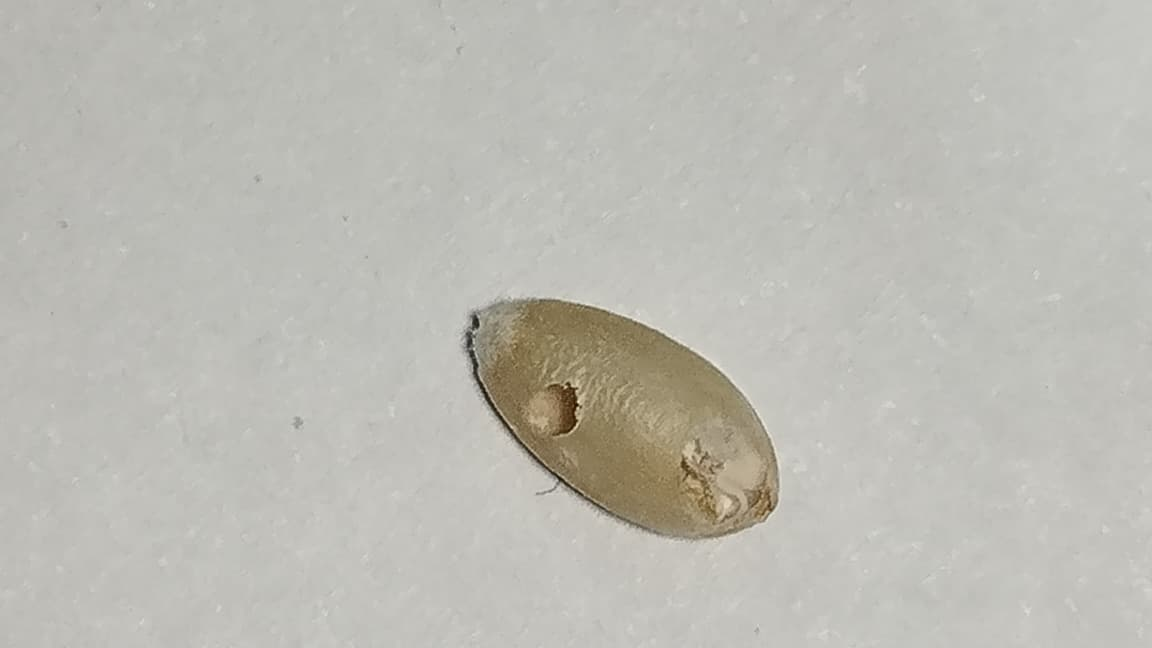damage: (471, 301, 778, 538)
insectdamage: (490, 356, 625, 443), (681, 438, 775, 525)
